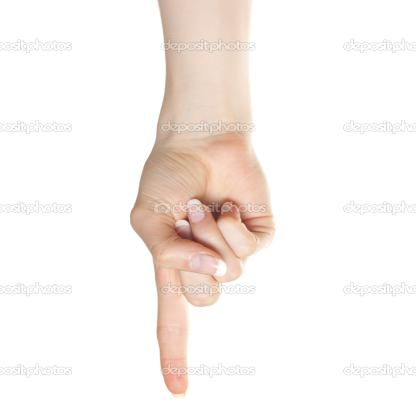Down: (113, 124, 290, 405)
